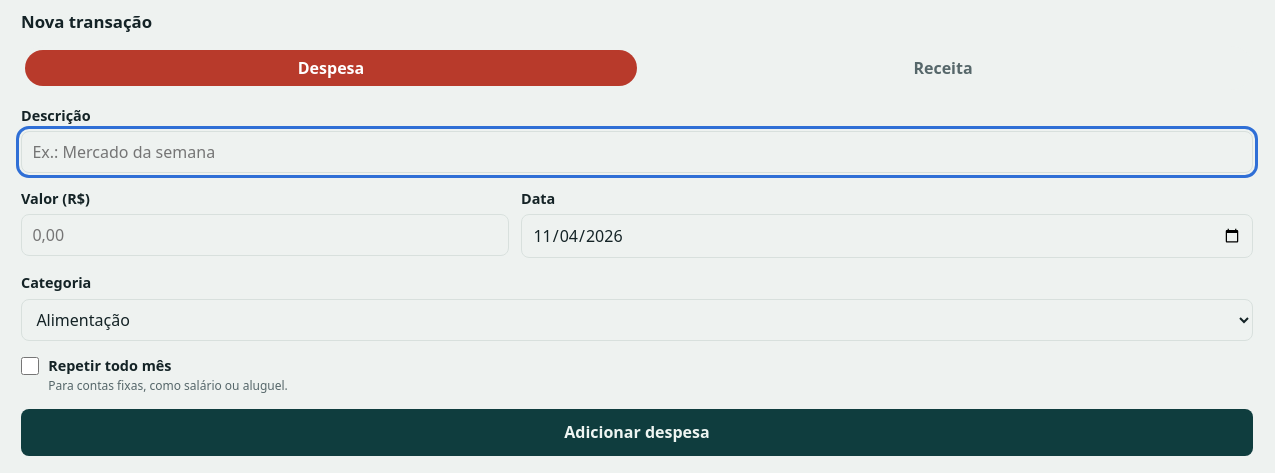
TransactionForm › troca as categorias disponíveis ao escolher receita
Click the radio button labelled "Receita" at (943,68), box [913,57,973,79]
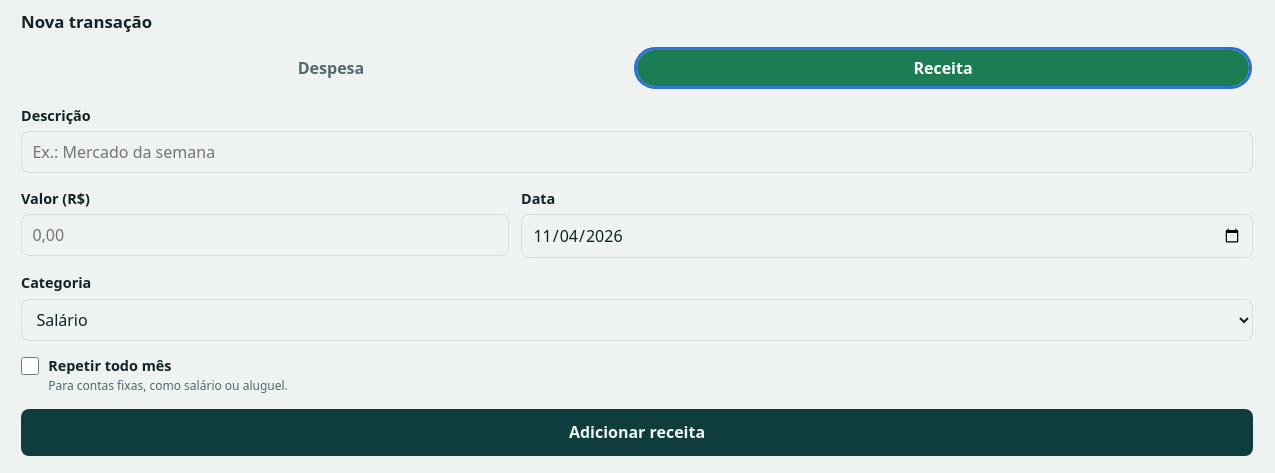
Expected: the option "Alimentação" is not shown
Expected: the button "Adicionar receita" is shown, [21,409,1253,456]
